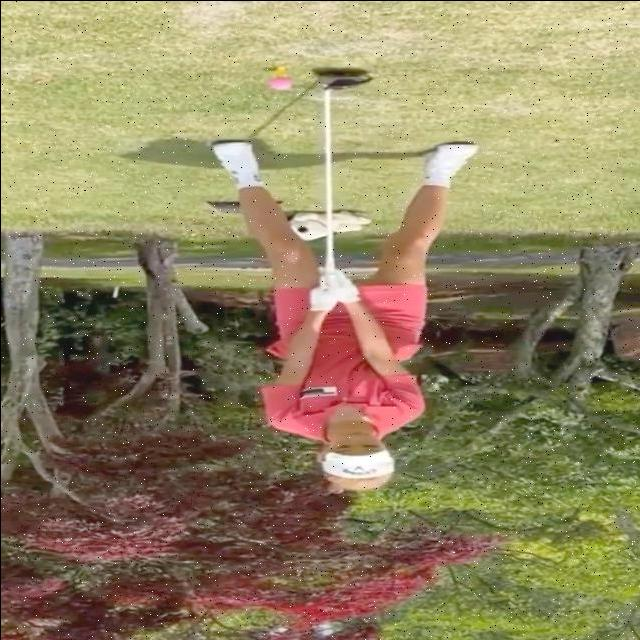golf ball: (270, 76, 291, 89)
golf club-handle: (315, 73, 371, 269)
golf club-head: (315, 73, 370, 88)
